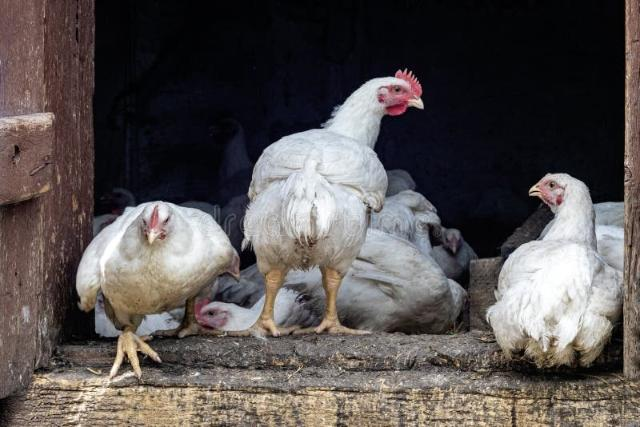Chicken: (227, 70, 424, 339), (76, 201, 240, 380), (190, 230, 462, 337), (484, 173, 621, 364), (425, 228, 479, 288)
